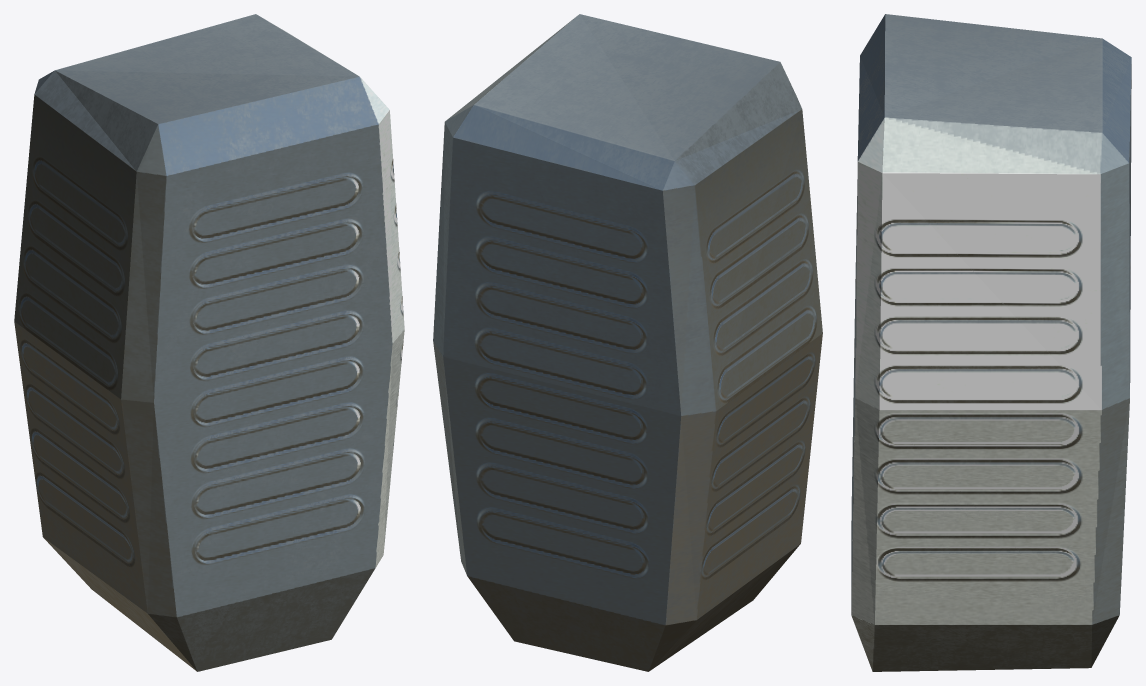
Rendered from R_LEG1}.obj.
The picture shows the model from 3 angles, left to right: view 1: azimuth 30°, elevation 25°; view 2: azimuth 150°, elevation 25°; view 3: azimuth 270°, elevation 25°; orthographic projection. The views are drawn at different scales.
Visible parts, largest first — view 1: pasted__pCube15 group; view 2: pasted__pCube15 group; view 3: pasted__pCube15 group.
Boxes of the visible parts, x1,y1,x2,y2 form: pasted__pCube15 group: (14, 14, 404, 671); pasted__pCube15 group: (433, 14, 822, 671); pasted__pCube15 group: (851, 14, 1131, 671).
Size of the model in its own units: 1 by 1.87 by 0.8272.
Materials: 1 (1 with a texture image).
